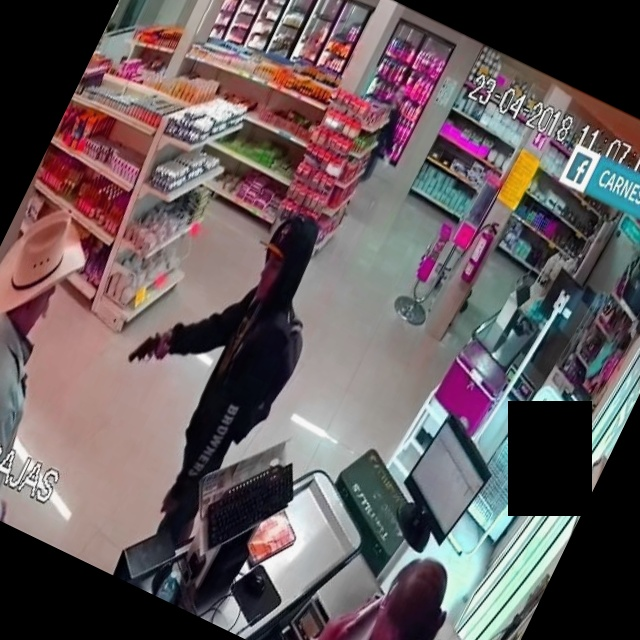gun: (114, 304, 178, 390)
